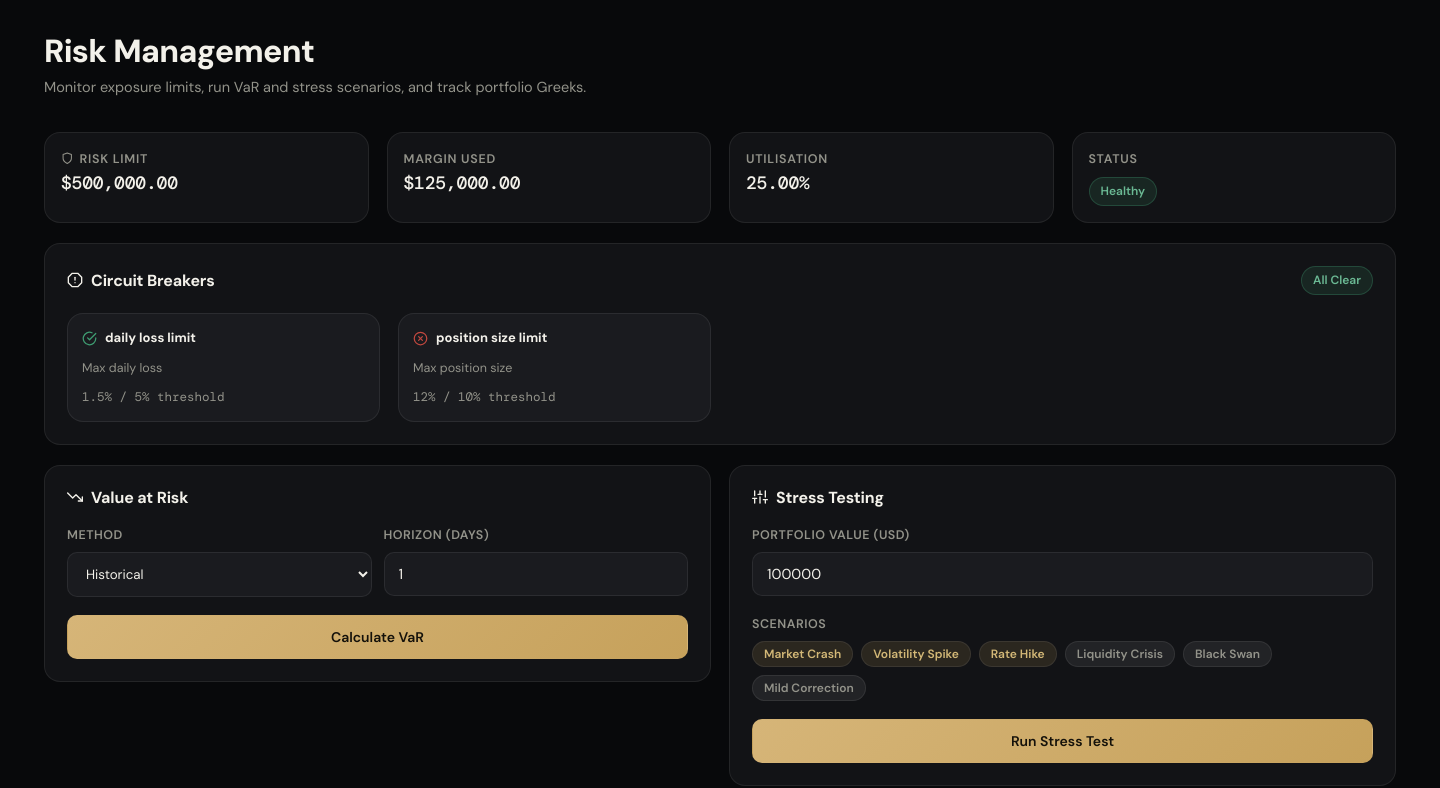
Test: Stress testing › shows an error
Expected: the heading "Circuit Breakers" is shown, [67,271,215,290]
Click the button "Run Stress Test".
click(1062, 741)  # box [752,719,1373,763]
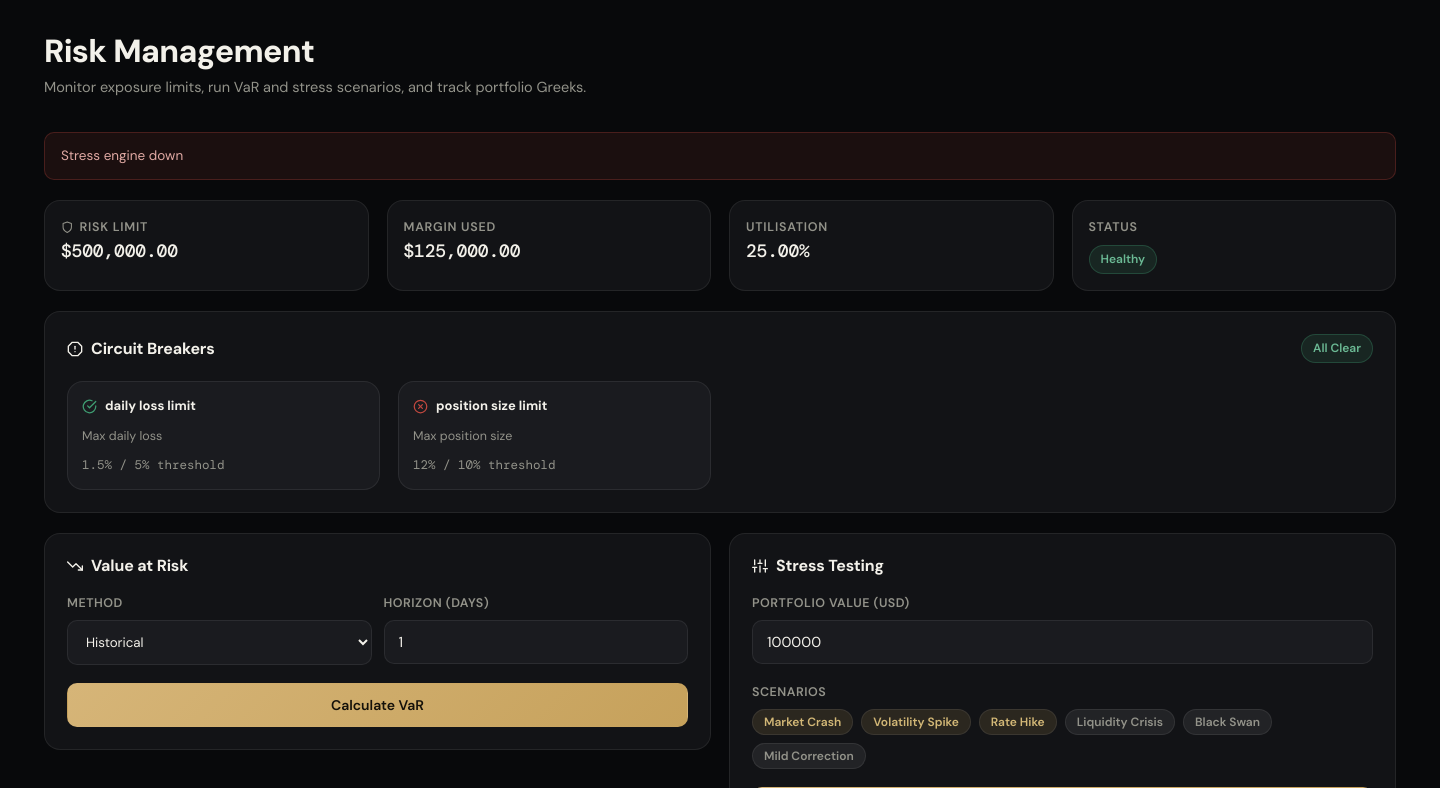
Result: the text "Stress engine down" is shown at [44,132,1396,180]
